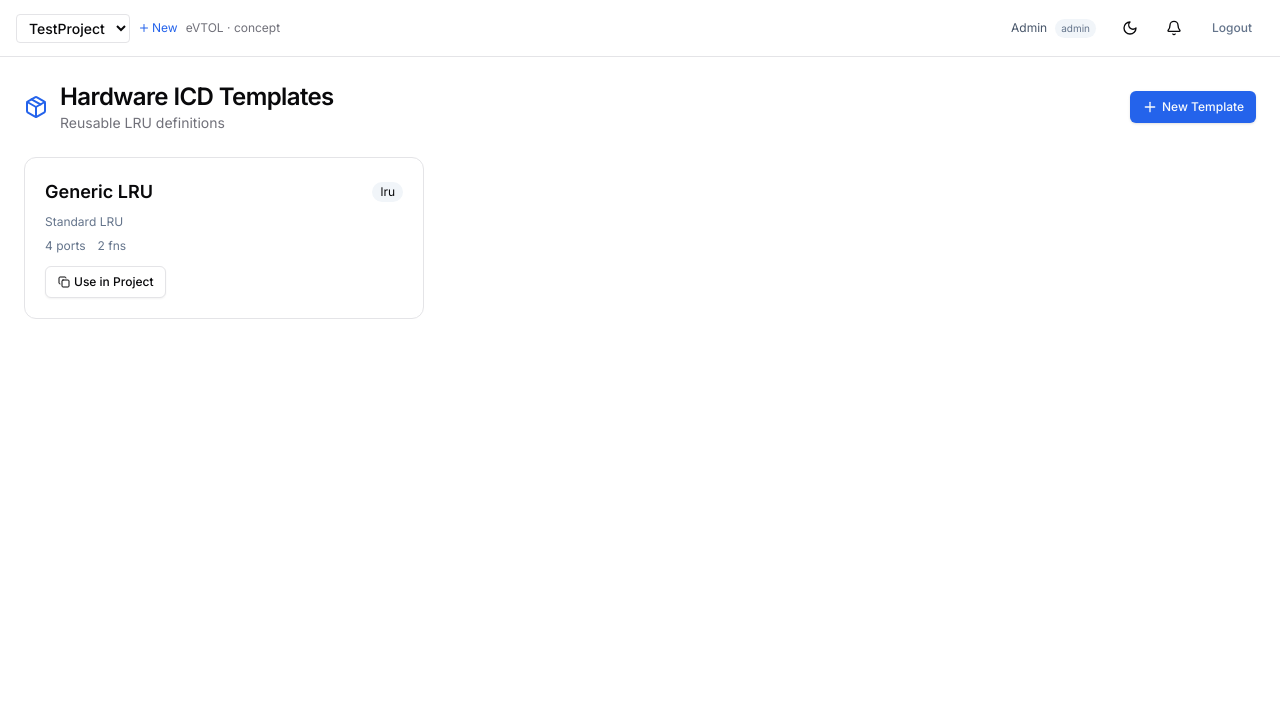
Scenario: HW Templates Page › + Add port adds a port row
Step 1. Click the button "New Template" → (1193,107), box [1130,91,1256,123]
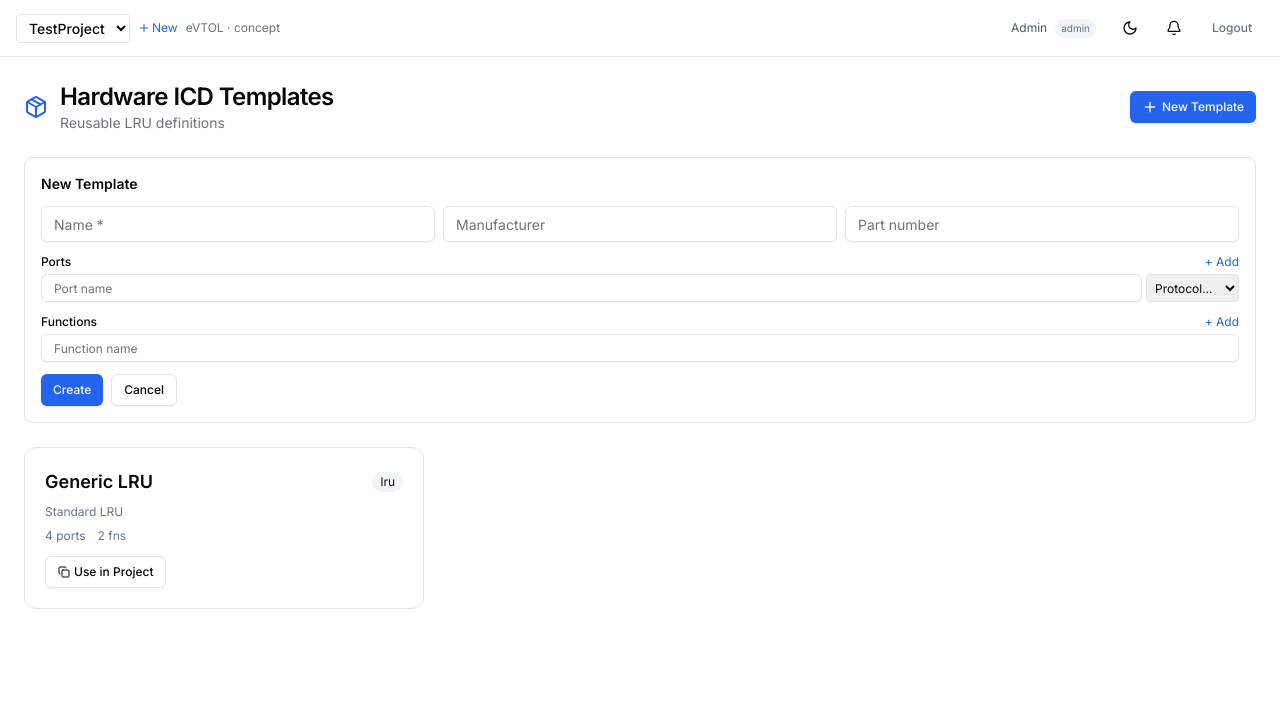
Step 2. Click the 1st button "+ Add" → (1222,262), box [1205,254,1239,270]
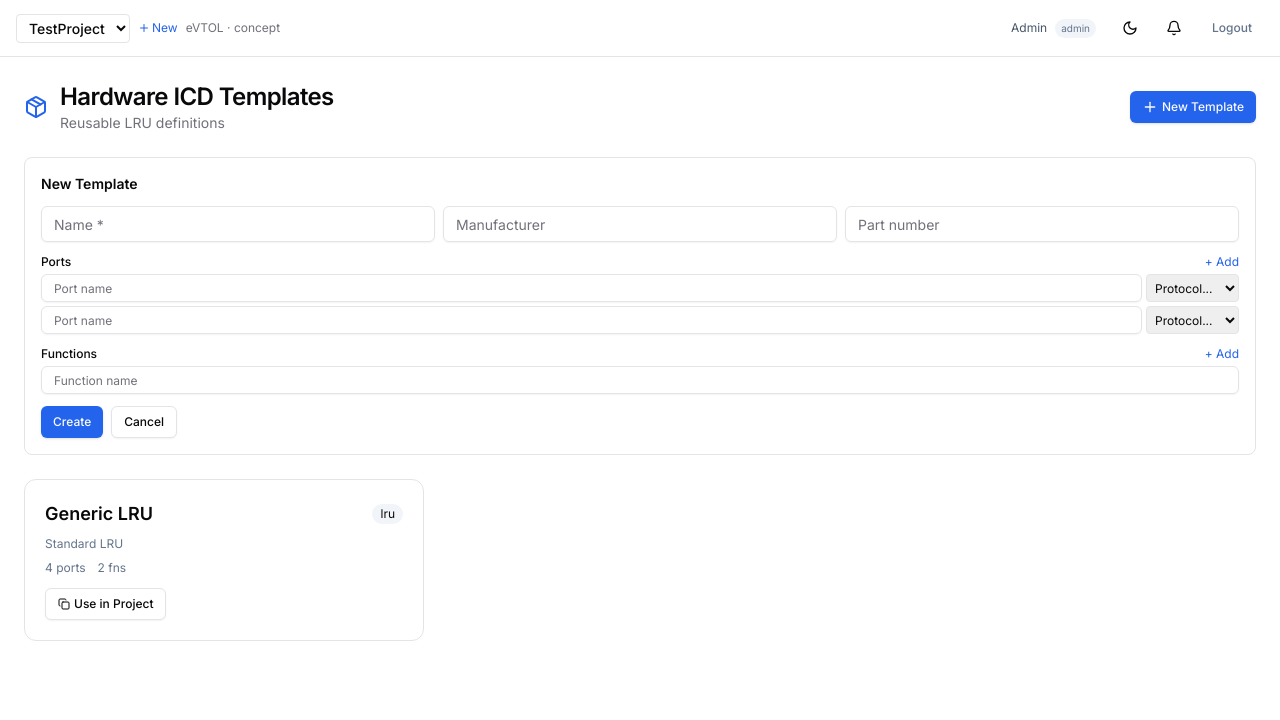
Expected: the number of fields with placeholder "Port name" is 2, [41,274,1142,302]; [41,306,1142,334]
